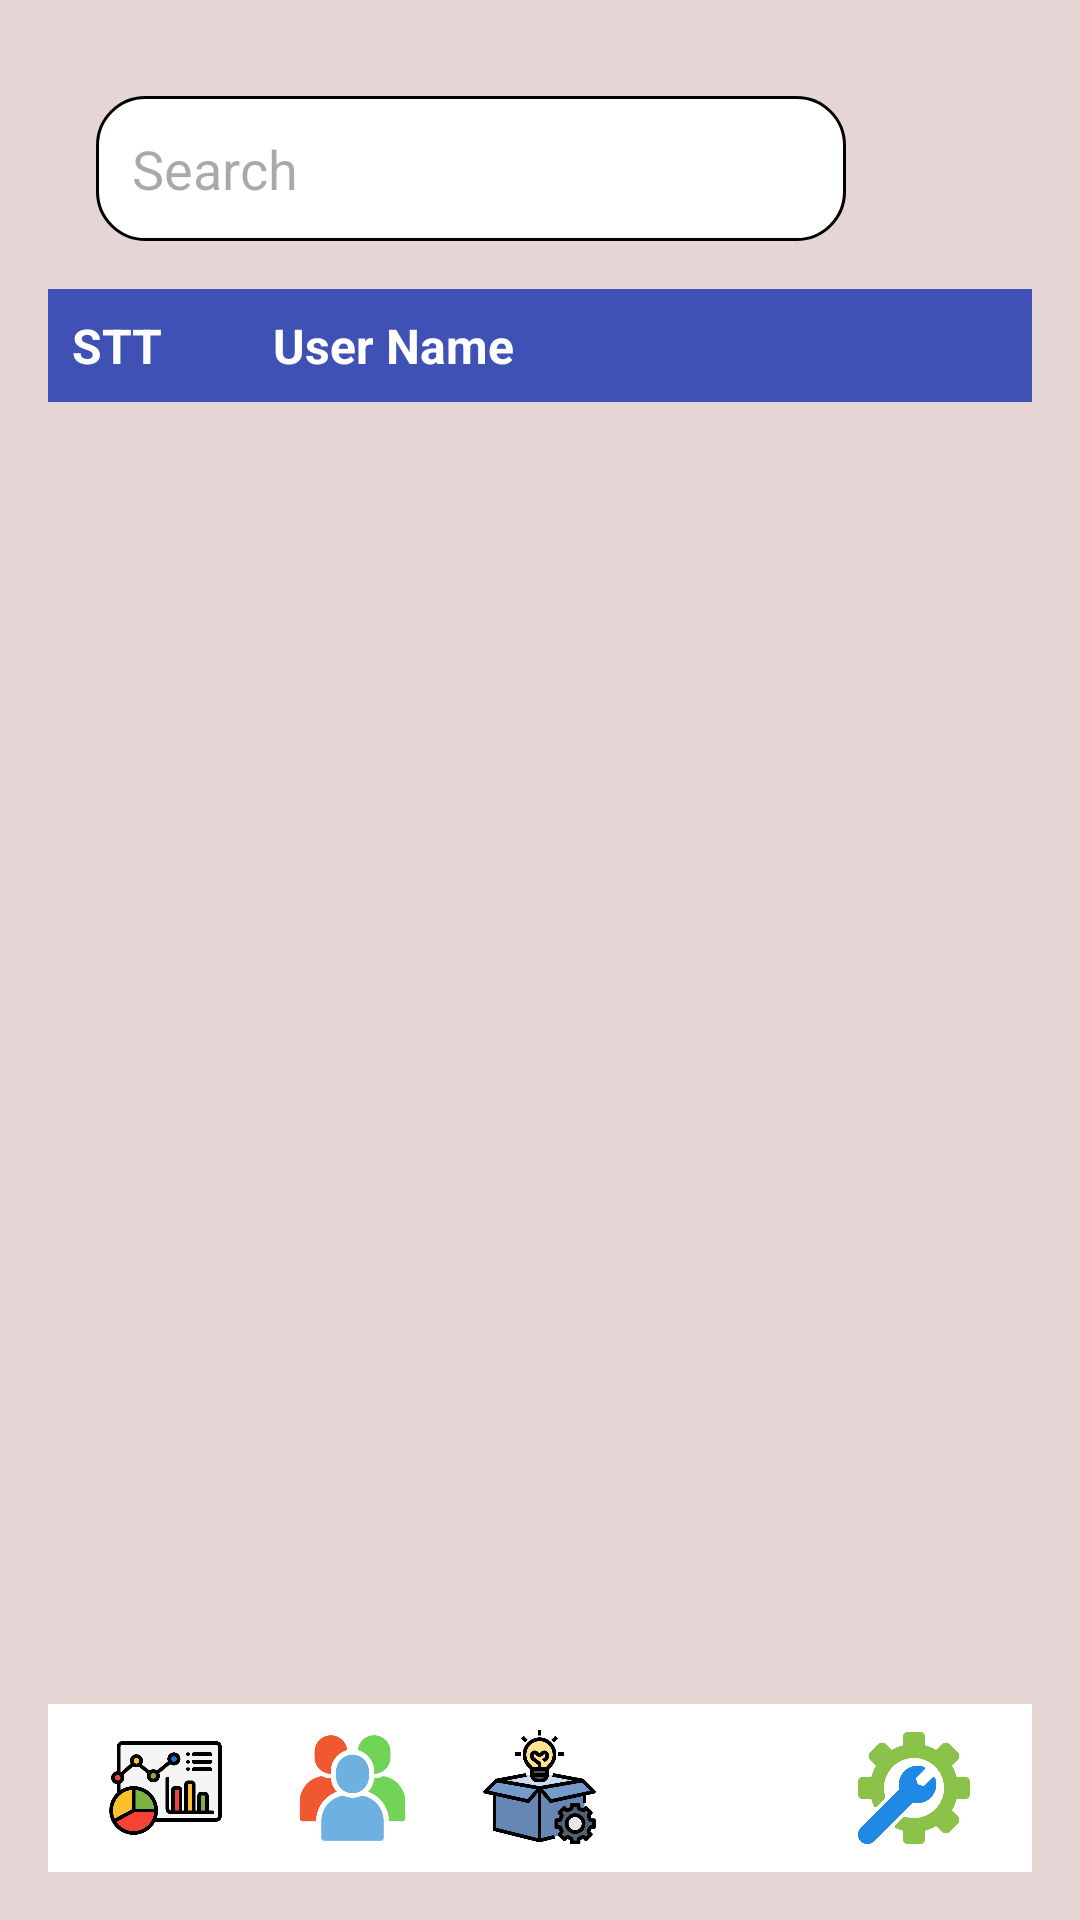

Icon bounding boxes for this 1080w x 1920h phone screenshot, format (x1, y1, x2, y2):
dashboard: (109, 1741, 222, 1835)
product: (483, 1730, 596, 1844)
setting: (858, 1732, 970, 1844)
users: (300, 1735, 405, 1841)
